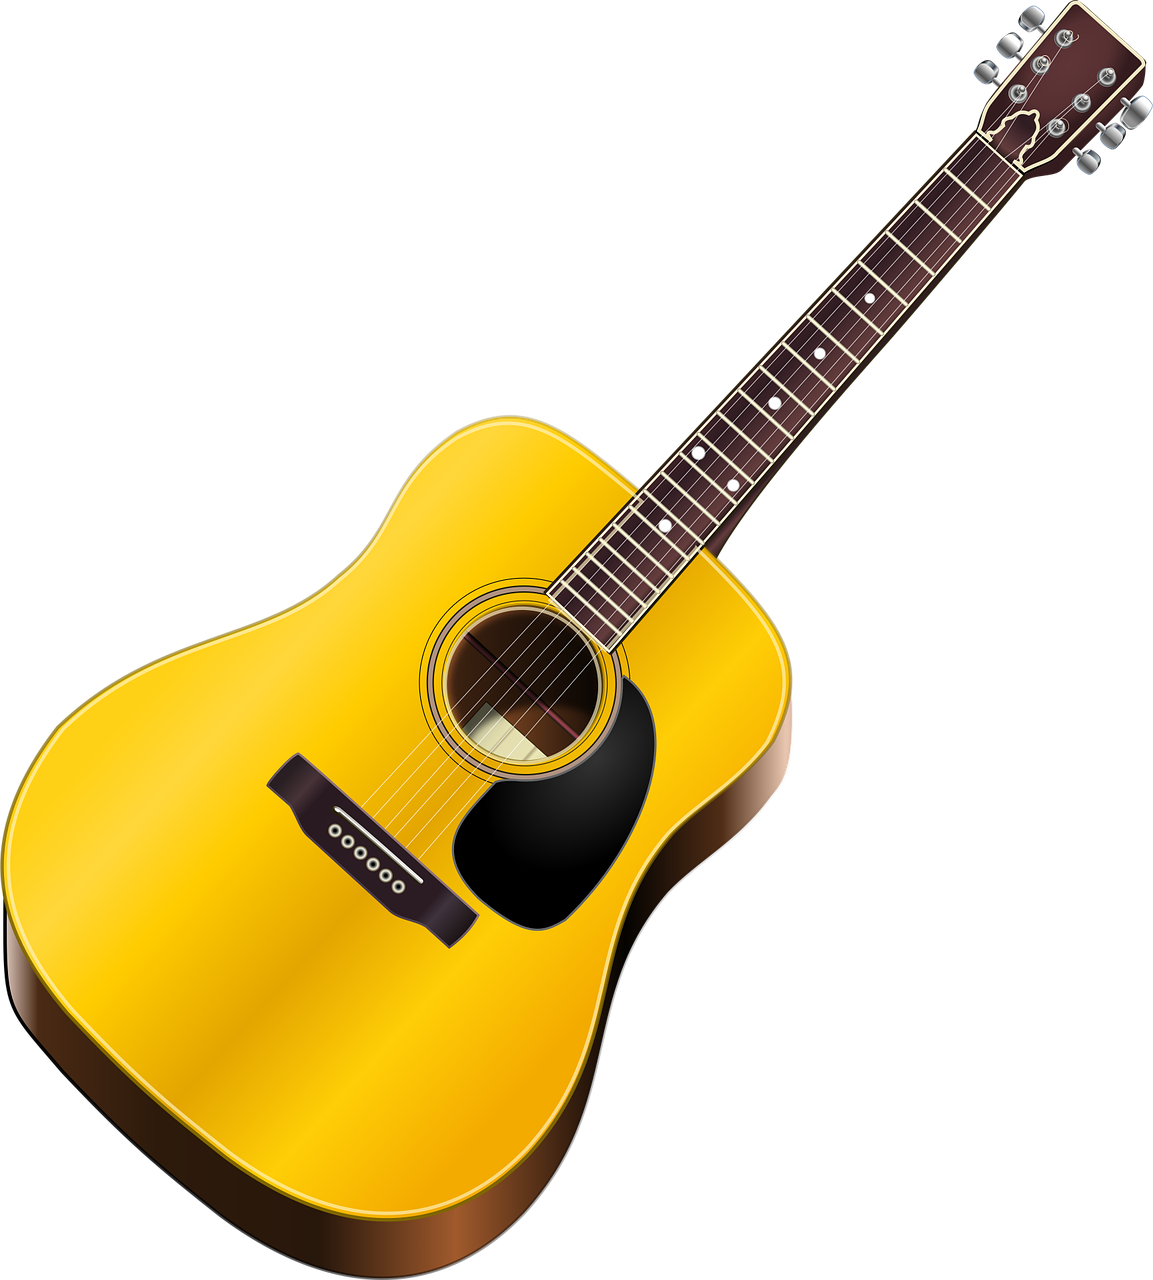guitar: (171, 0, 1153, 971)
